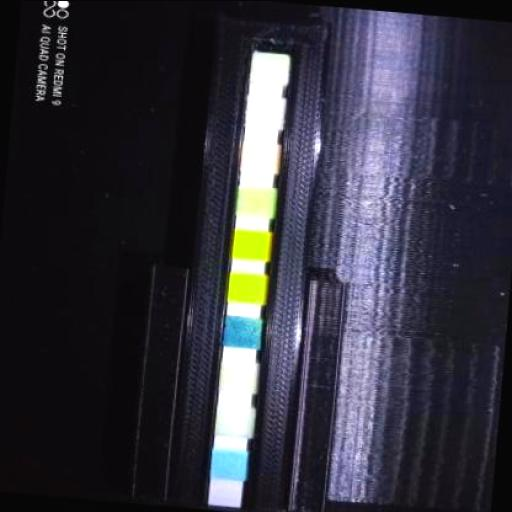Bilirubin: (218, 408, 252, 434)
Blood: (230, 275, 264, 301)
Glucose: (212, 452, 244, 478)
Ketone: (221, 363, 255, 387)
Leukocytes: (253, 55, 287, 81)
Nitrite: (248, 98, 282, 126)
Protein: (238, 189, 274, 215)
SpGravity: (226, 319, 260, 346)
Urobilinogen: (244, 144, 276, 170)
pH: (234, 232, 268, 256)
strip: (207, 51, 286, 507)
